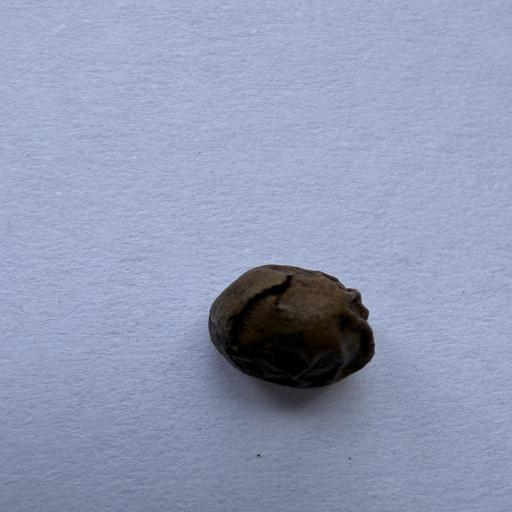Black_pepper: (195, 249, 391, 399)
